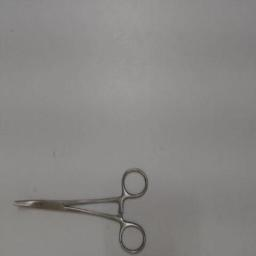Crile Artery Forceps: (8, 164, 152, 256)
